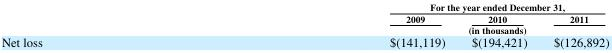table: (0, 0, 608, 49)
table column: (215, 0, 457, 49), (0, 0, 215, 49), (457, 0, 539, 49), (539, 0, 608, 49)
table column header: (0, 0, 608, 34)
table row: (0, 34, 608, 49), (0, 0, 608, 12), (0, 12, 608, 24), (0, 24, 608, 34)
table spanning cell: (215, 0, 608, 12), (215, 24, 608, 34)
